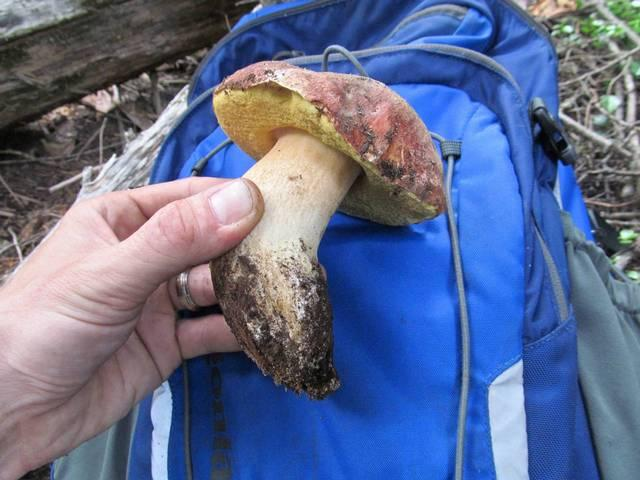edible_mushroom: (206, 58, 446, 400)
